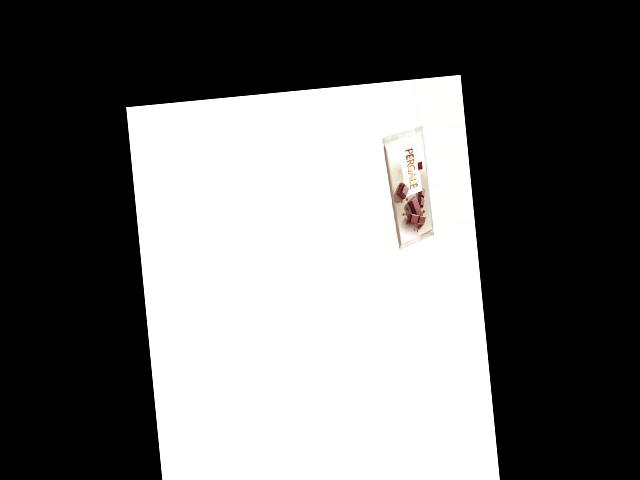chocolate: (382, 124, 435, 252)
